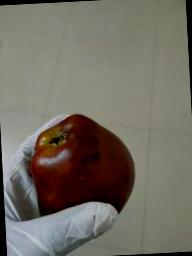Apple Rotten: (26, 110, 138, 215)
